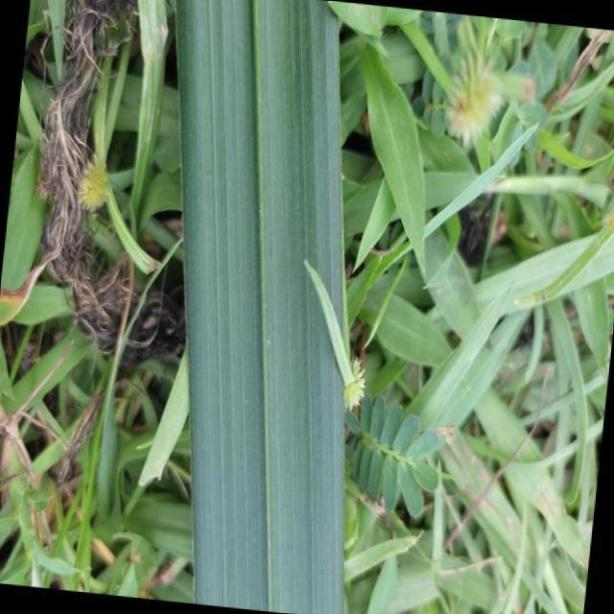Healthy: (180, 0, 348, 614)
